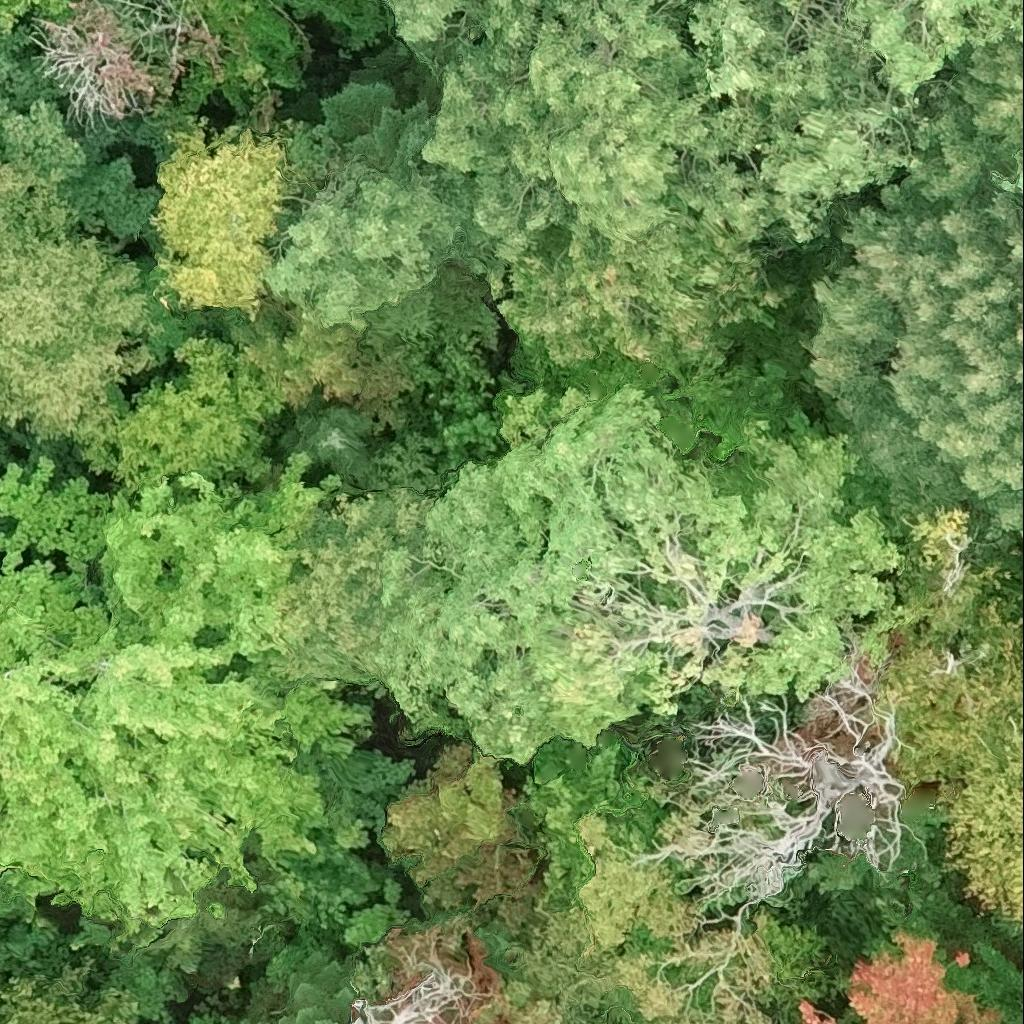crown: (380, 388, 897, 755), (253, 0, 784, 354), (0, 456, 367, 941), (810, 24, 1023, 535), (693, 0, 1023, 239), (497, 216, 784, 374), (38, 0, 308, 167), (0, 157, 150, 444), (896, 611, 1023, 923), (264, 492, 445, 696), (0, 20, 165, 239), (226, 753, 416, 942), (382, 744, 538, 926), (161, 128, 287, 316), (516, 741, 649, 906), (250, 317, 438, 416), (387, 923, 551, 1023), (852, 930, 1002, 1023), (323, 80, 433, 176), (385, 0, 594, 48), (280, 396, 376, 489), (0, 959, 138, 1023), (256, 954, 357, 1023), (0, 0, 71, 37), (803, 1004, 835, 1023), (0, 975, 16, 1005), (198, 1016, 242, 1023), (1015, 182, 1023, 202), (0, 509, 5, 530), (1015, 242, 1023, 255), (0, 550, 7, 564)
